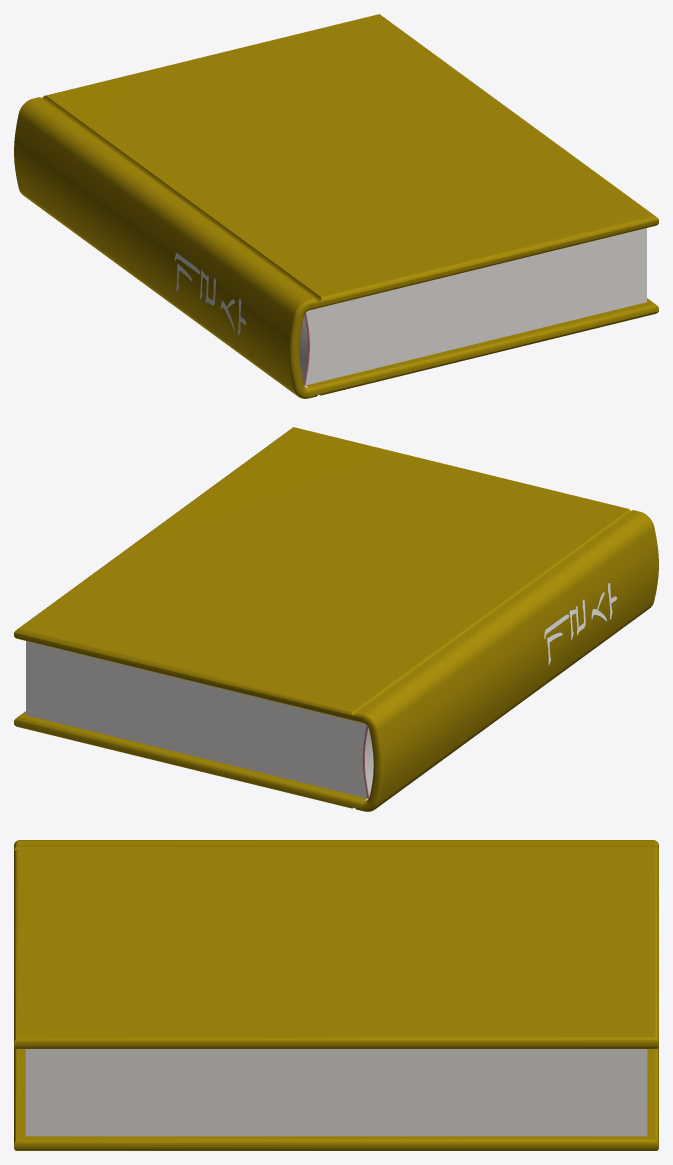
The model's file is book3.glb.
The picture shows the model from 3 angles, top to bottom: view 1: azimuth 30°, elevation 25°; view 2: azimuth 150°, elevation 25°; view 3: azimuth 270°, elevation 25°; orthographic projection. The views are drawn at different scales.
Parts seen in each view (by area): view 1: Geode, Text; view 2: Geode, Text; view 3: Geode.
Boxes of the visible parts, box(x1,y1,x2,y2) form: Geode: box(14, 14, 658, 398); Text: box(174, 253, 246, 335); Geode: box(14, 427, 658, 811); Text: box(544, 583, 616, 665); Geode: box(14, 840, 658, 1150).
Size of the model in its own units: 0.5052 by 0.1292 by 0.6604.
3 materials, 1 textured.
